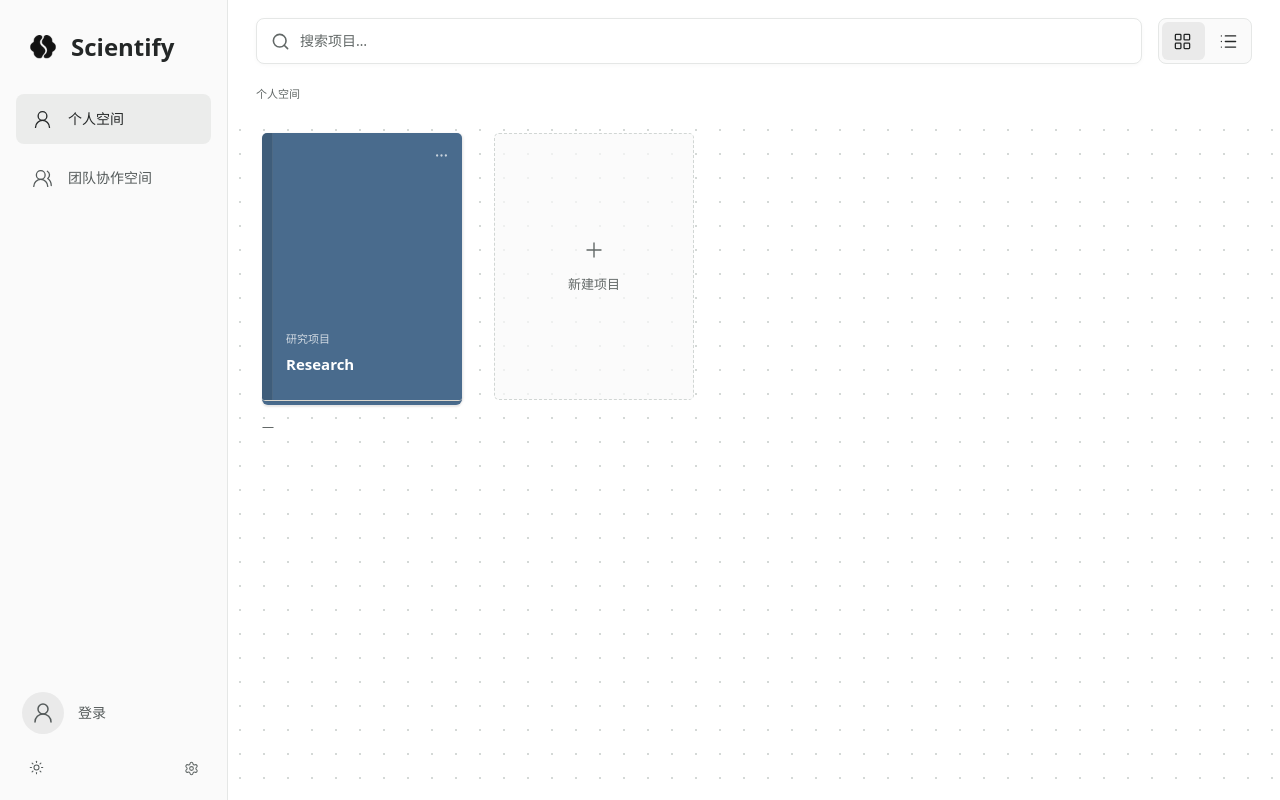
keeps Projects independent of the previously selected project and reloads after returning
Click the button "研究项目 Research": (362, 266) [262,133,462,400]
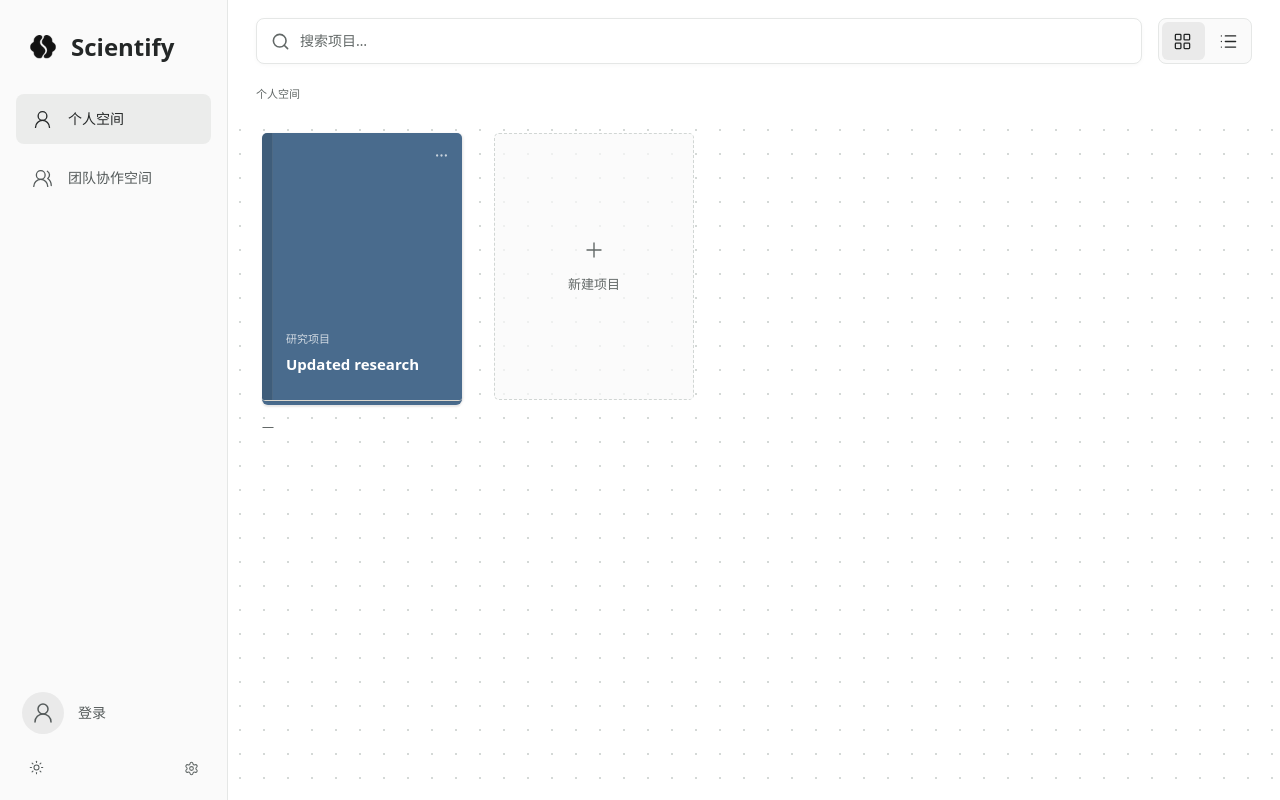
expect the button "研究项目 Updated research" is shown: met, box [262,133,462,400]
